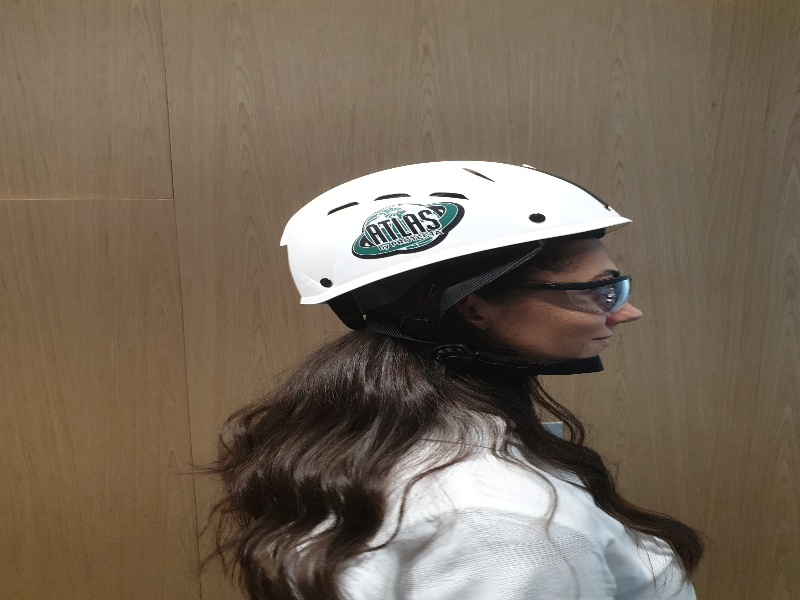Baret: (287, 158, 630, 304)
Gozluk: (485, 276, 633, 309)
